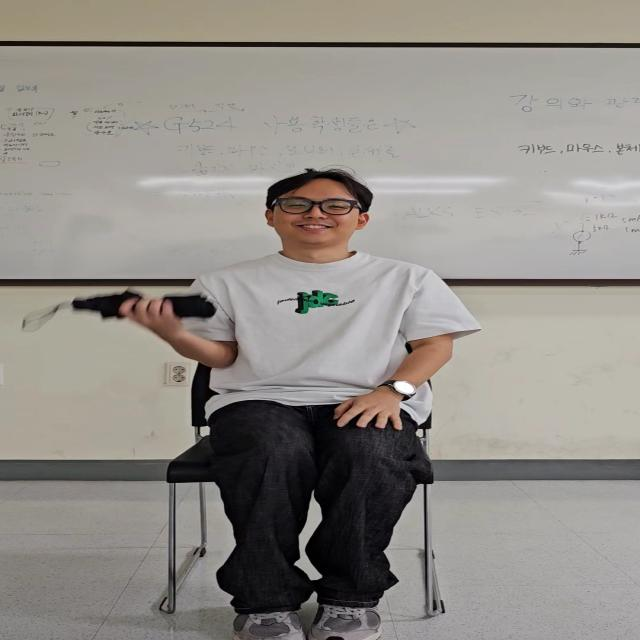curl: (89, 265, 269, 384)
